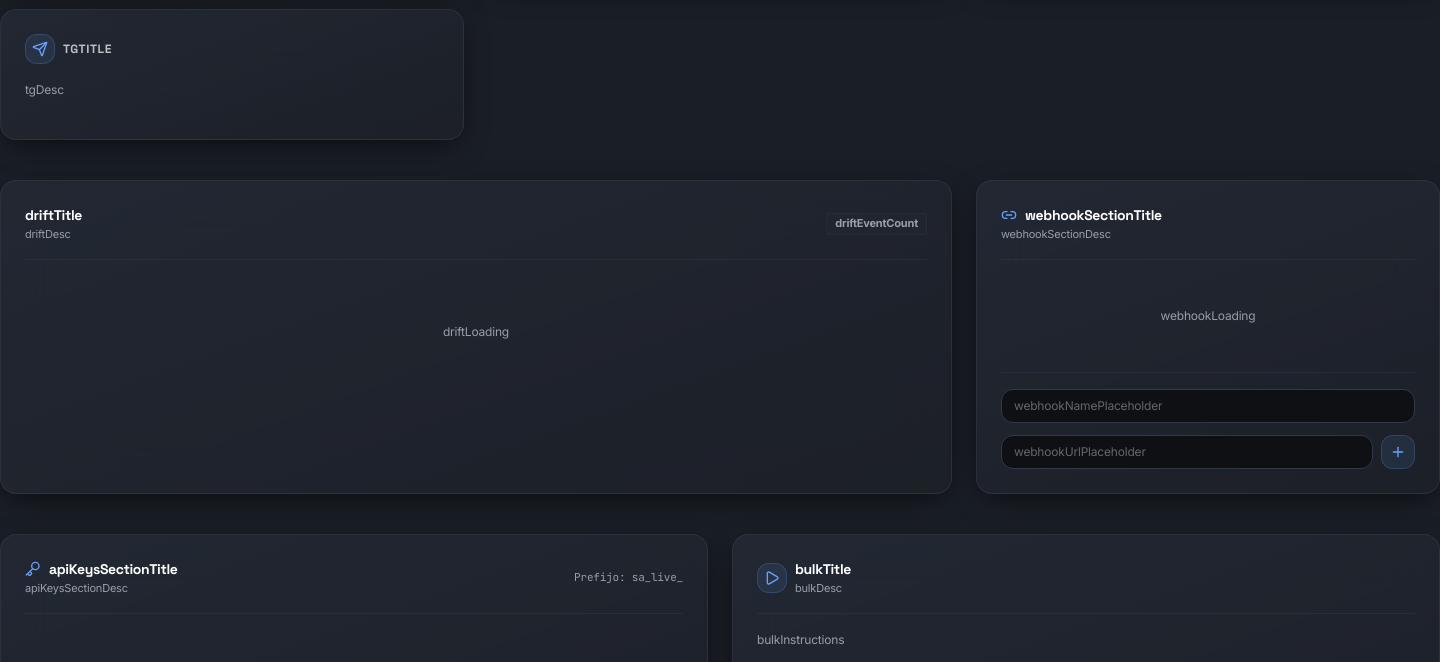
Scenario: MonitoringTab — schedule, webhooks, API keys, bulk scan y planes › crea un webhook y lo añade a la lista
(page scrolled)
Type "Mi Hook" into the field with placeholder "webhookNamePlaceholder" at coordinates (1208, 406), box [1001,389,1415,423]
(page scrolled)
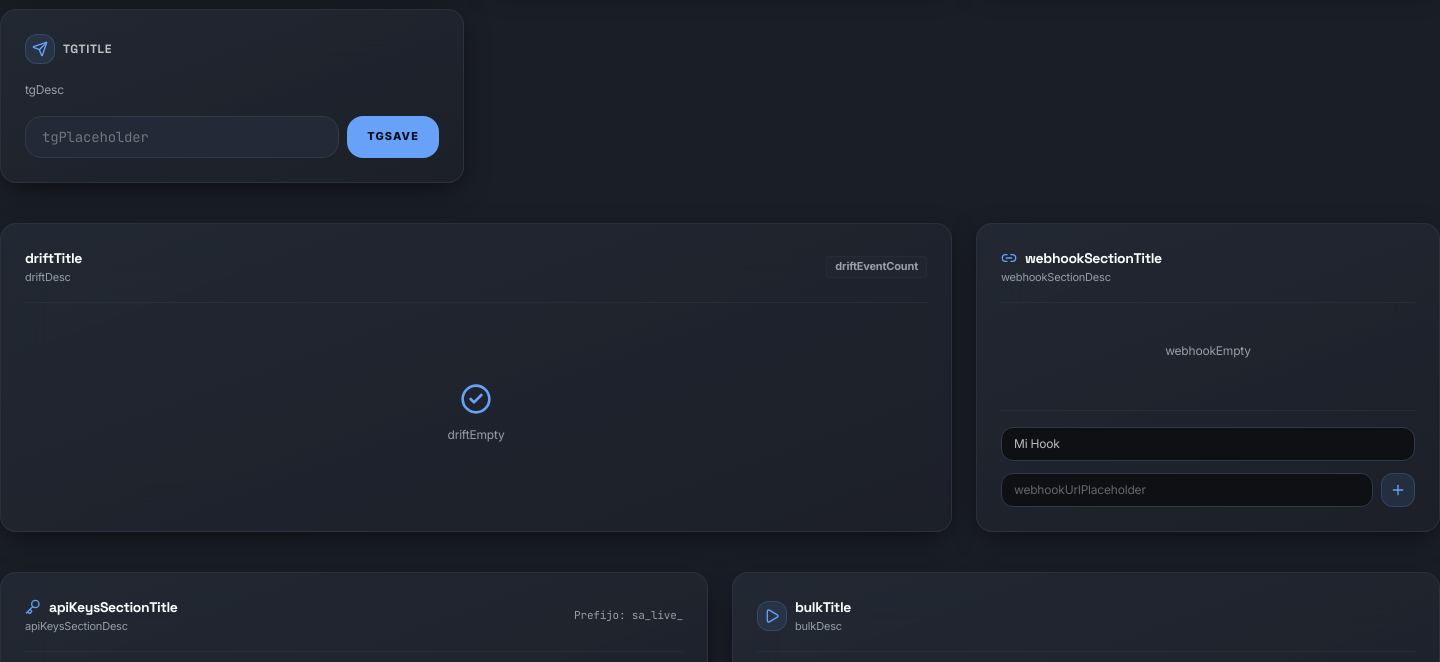
Type "https://hook.example.com" into the field with placeholder "webhookUrlPlaceholder" at coordinates (1187, 490), box [1001,473,1373,507]
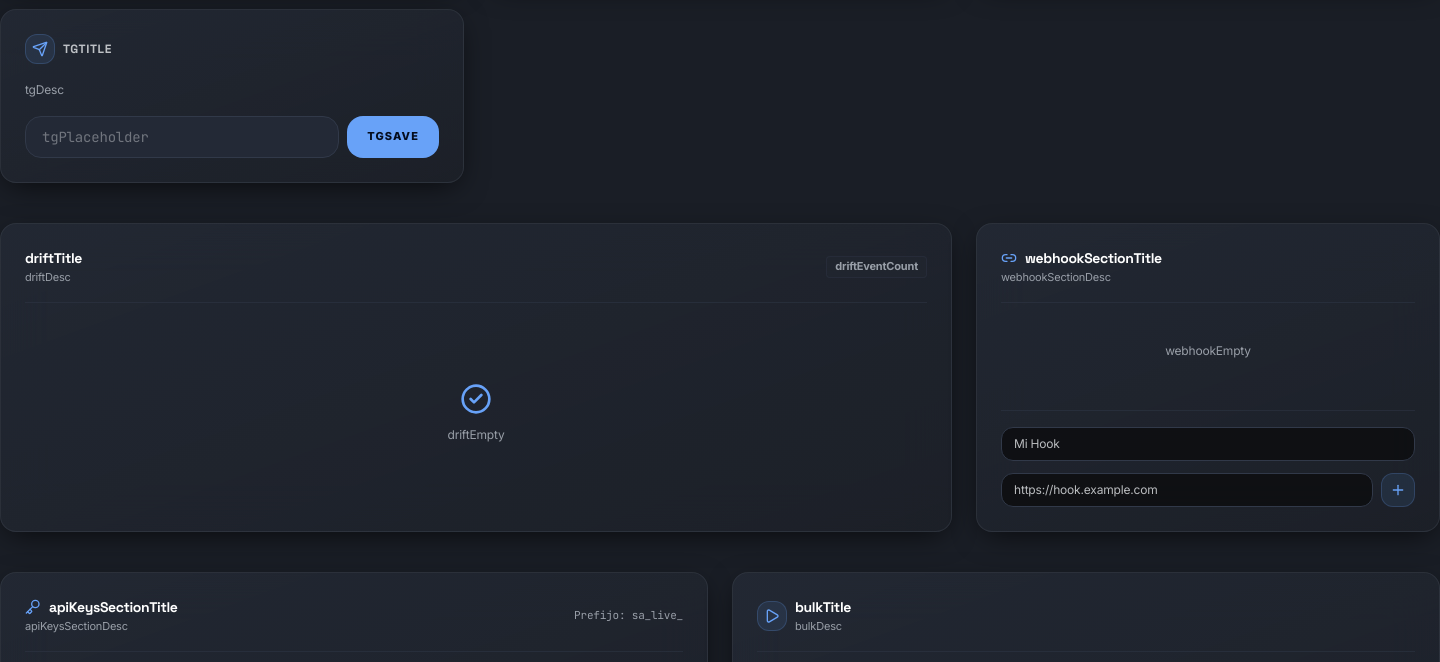
Click the button named "addWebhook" at coordinates (1398, 490), box [1381,473,1415,507]
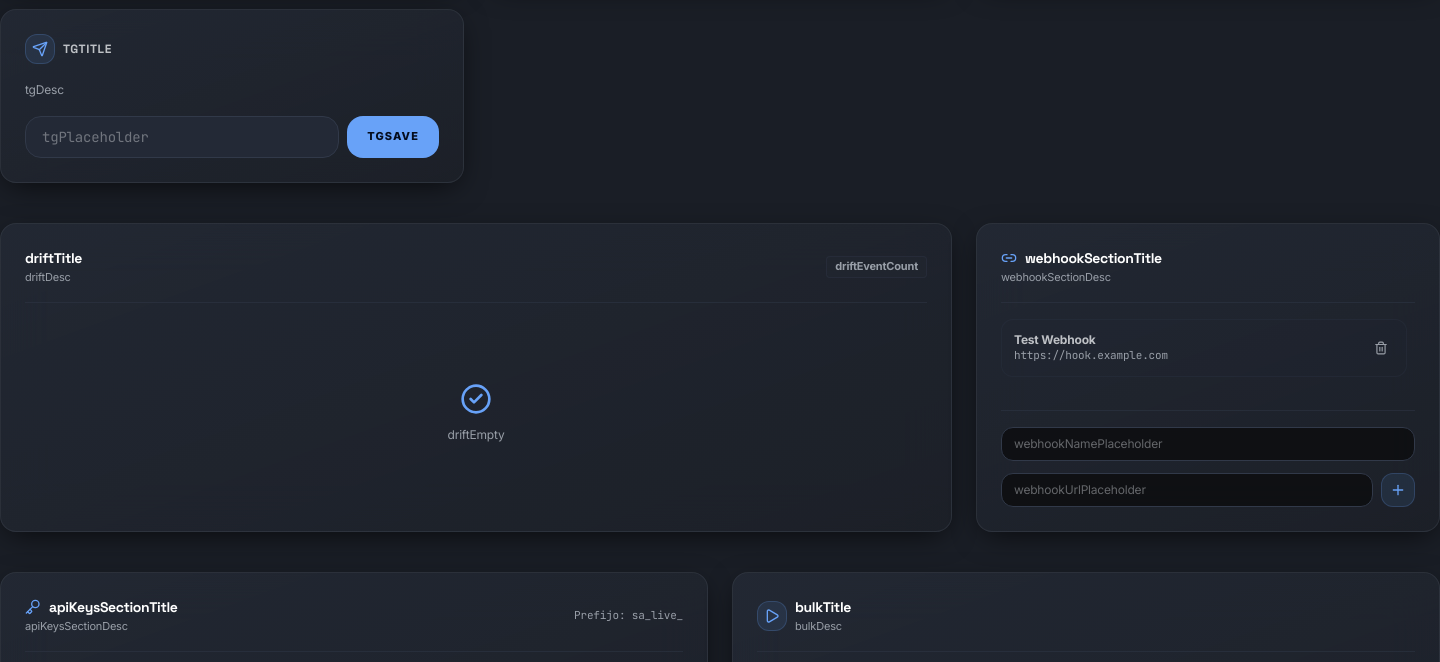
Now the text "Test Webhook" is shown, box [1014,332,1096,347]
